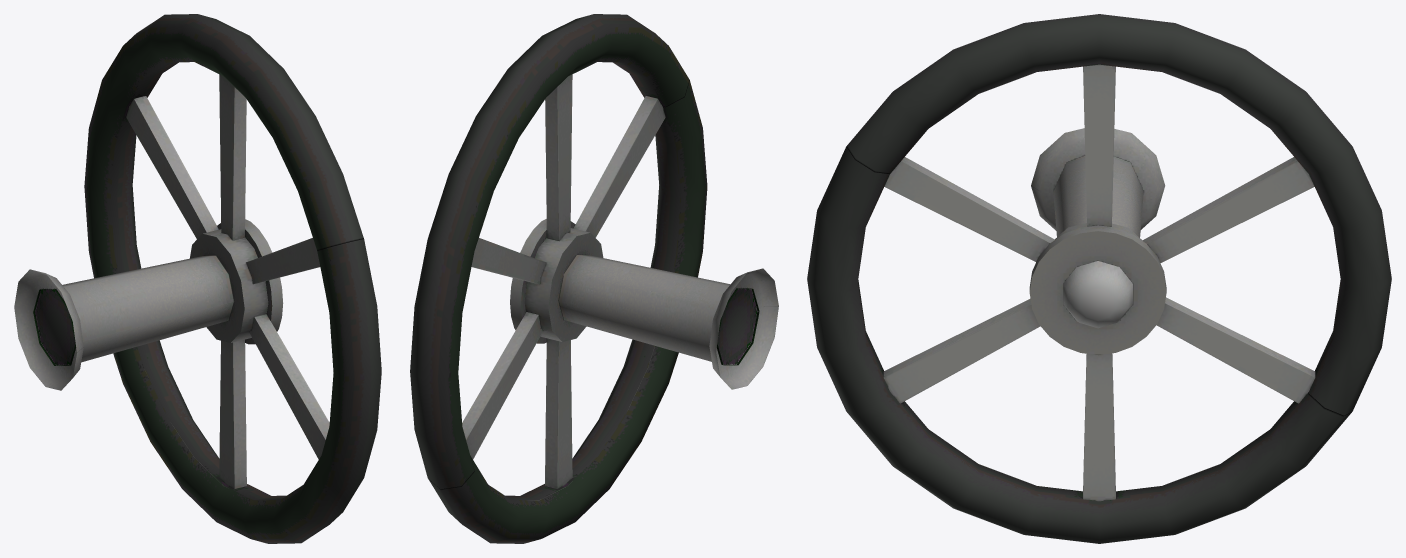
Rendered from props_mining_crank01.glb.
The picture shows the model from 3 angles, left to right: view 1: azimuth 30°, elevation 25°; view 2: azimuth 150°, elevation 25°; view 3: azimuth 270°, elevation 25°; orthographic projection. The views are drawn at different scales.
Visible parts, largest first — view 1: models/props_mining/crank01; view 2: models/props_mining/crank01; view 3: models/props_mining/crank01.
Boxes of the visible parts, box(x1,y1,x2,y2) form: models/props_mining/crank01: box(14, 14, 381, 543); models/props_mining/crank01: box(410, 14, 778, 543); models/props_mining/crank01: box(807, 14, 1391, 543).
Bounding box in the file's own units: 10.22 × 21.3 × 21.3.
Materials: 1 (1 with a texture image).
